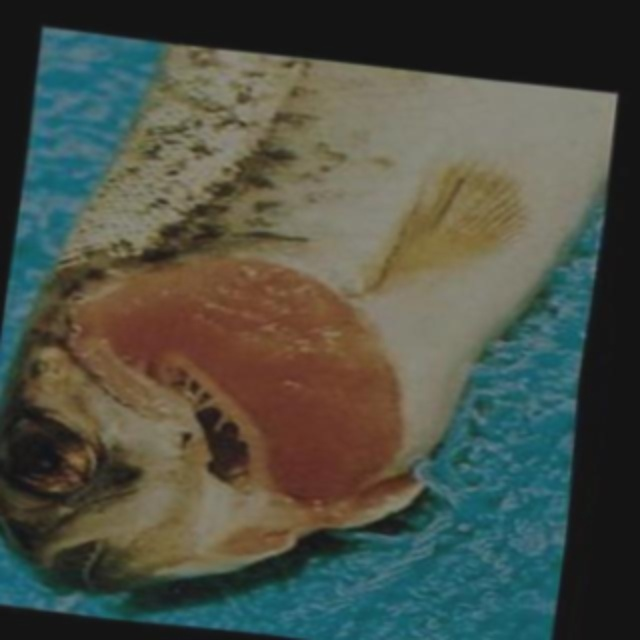Gill Disease: (4, 210, 478, 605)
